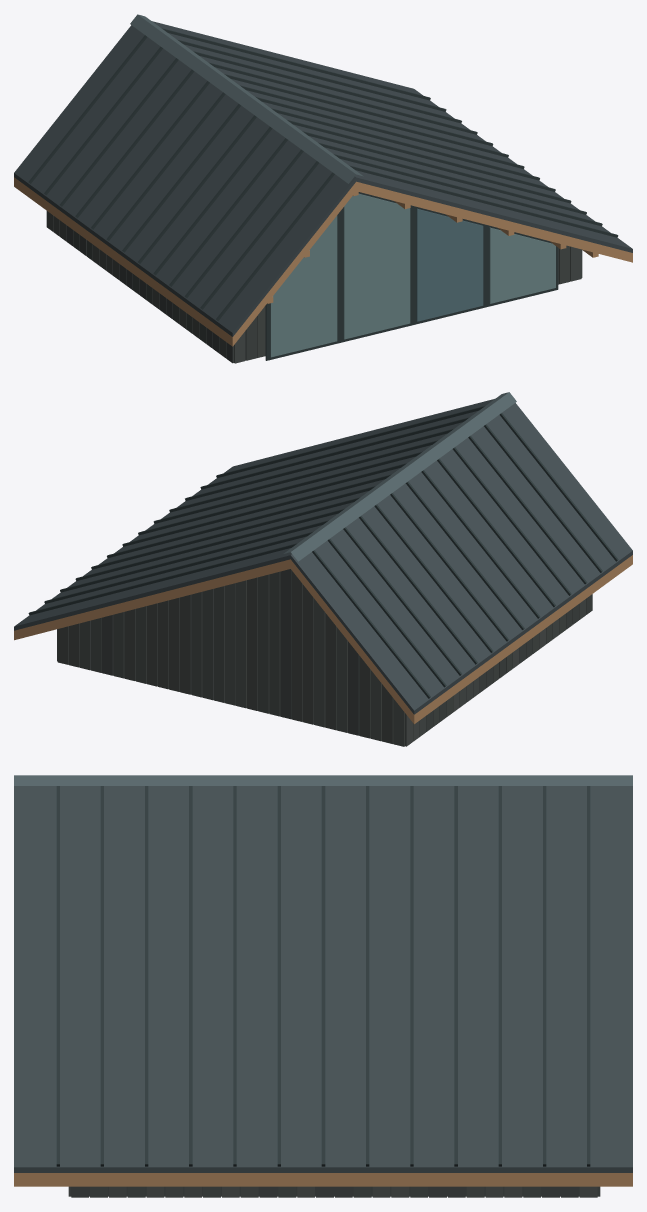
The model's file is offset_gable.glb.
The picture shows the model from 3 angles, top to bottom: view 1: azimuth 30°, elevation 25°; view 2: azimuth 150°, elevation 25°; view 3: azimuth 270°, elevation 25°; orthographic projection. The views are drawn at different scales.
Parts seen in each view (by area): view 1: KitOffsetGableRoofFinish, KitOffsetGableDetails, KitOffsetGableSiding; view 2: KitOffsetGableRoofFinish, KitOffsetGableSiding, KitOffsetGableDetails; view 3: KitOffsetGableRoofFinish, KitOffsetGableDetails, KitOffsetGableSiding.
Boxes of the visible parts, x1,y1,x2,y2 form: KitOffsetGableRoofFinish: [14, 14, 632, 336]; KitOffsetGableDetails: [14, 28, 632, 360]; KitOffsetGableSiding: [46, 211, 582, 363]; KitOffsetGableRoofFinish: [14, 392, 632, 714]; KitOffsetGableSiding: [57, 569, 592, 746]; KitOffsetGableDetails: [14, 406, 632, 724]; KitOffsetGableRoofFinish: [14, 775, 632, 1172]; KitOffsetGableDetails: [14, 786, 632, 1186]; KitOffsetGableSiding: [68, 1186, 600, 1197].
Size of the model in its own units: 6.58 by 2.83 by 6.21.
